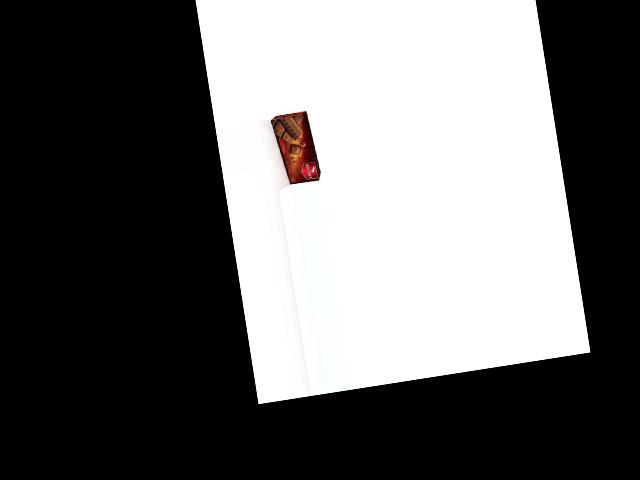chocolate: (269, 111, 322, 186)
